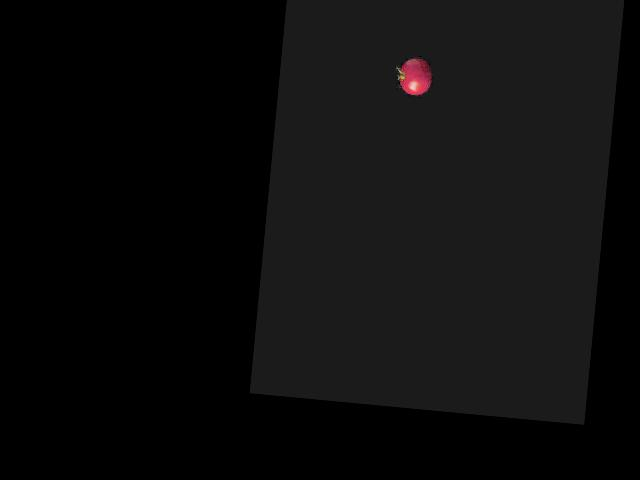tomato: (398, 57, 432, 96)
